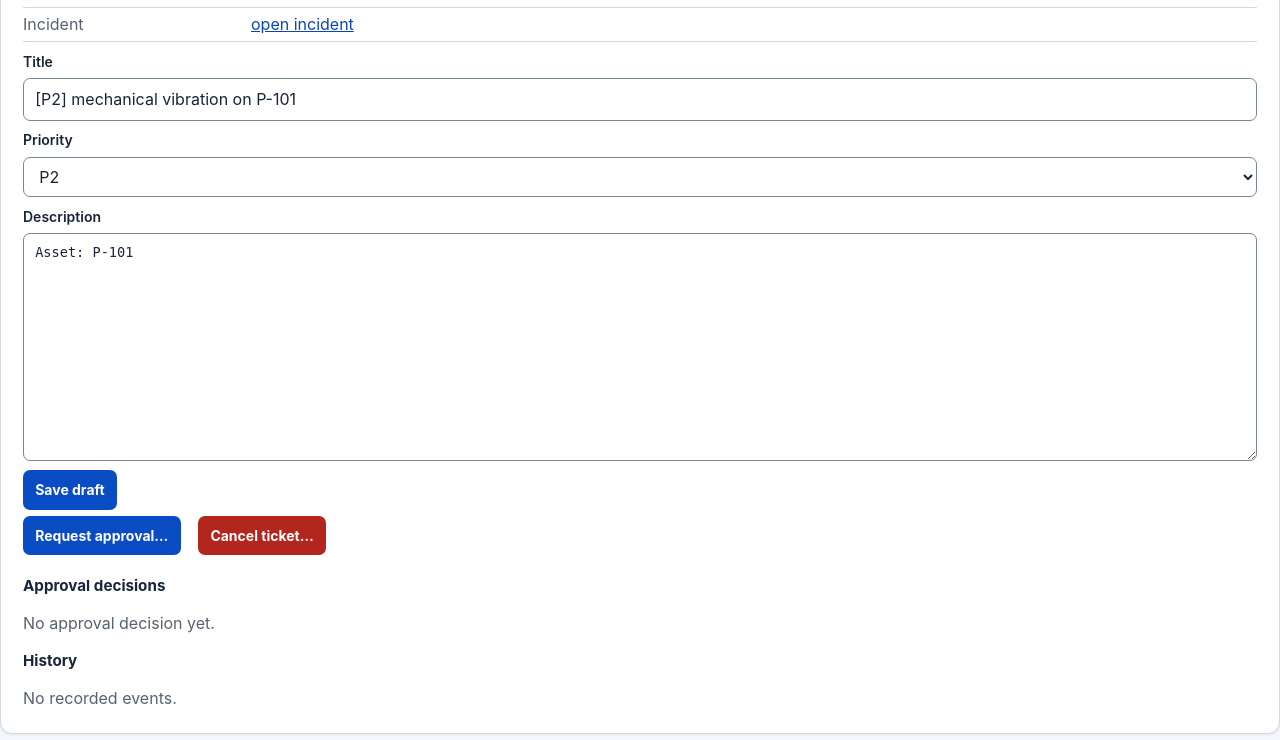
TicketsPage › lets an engineer edit a draft and request approval only after confirming
(page scrolled)
What coordinates should you click on to do the following:
click the button "Request approval…"
I would click on:
 (102, 535)
Its box is [23,516,181,555].
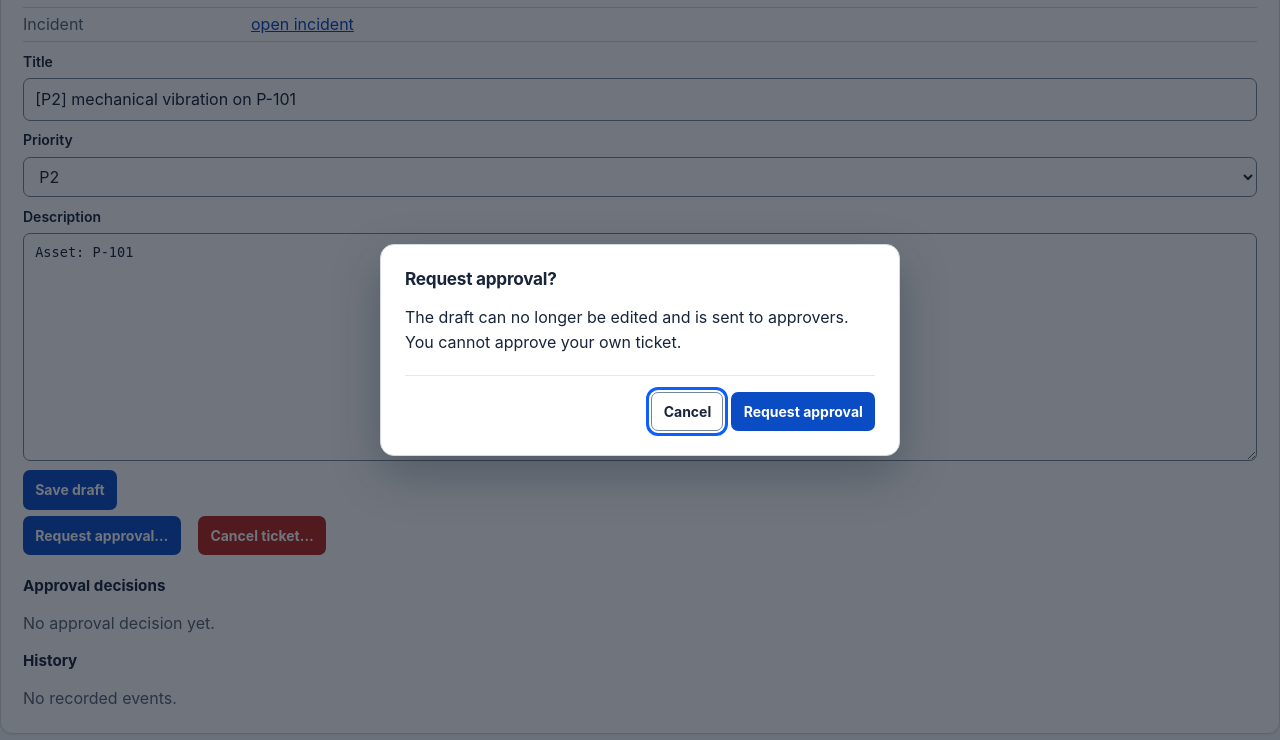
What coordinates should you click on to do the following:
click the button "Request approval"
I would click on:
 (803, 412)
Its box is [731,392,875,432].
(page scrolled)
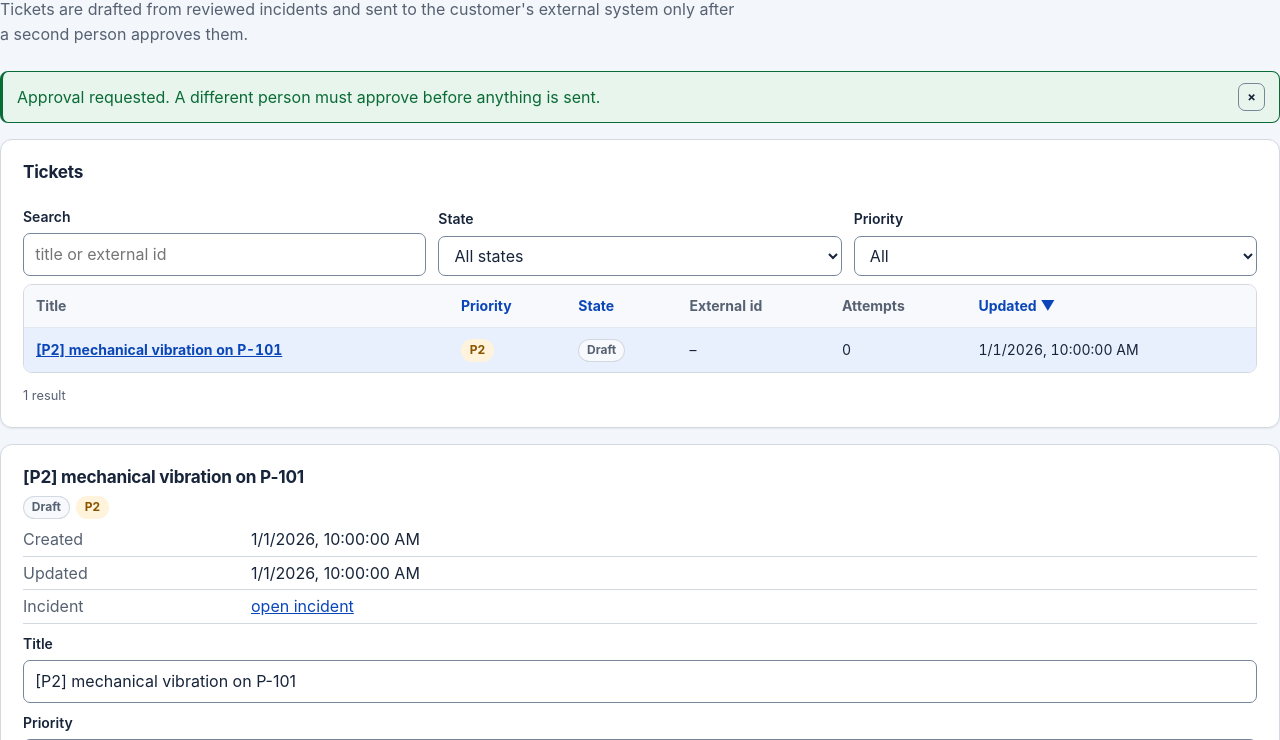
Check: the text "different person must approve" is shown, box [17,86,600,106]
